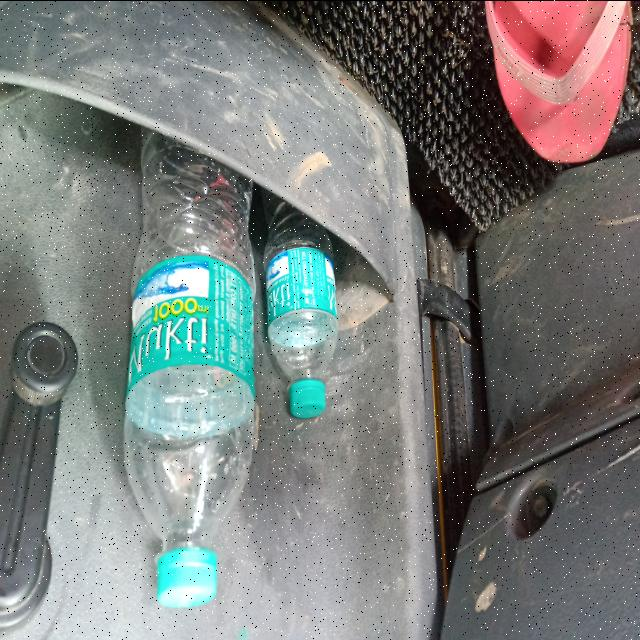plastic: (120, 46, 266, 610), (263, 164, 336, 422)
